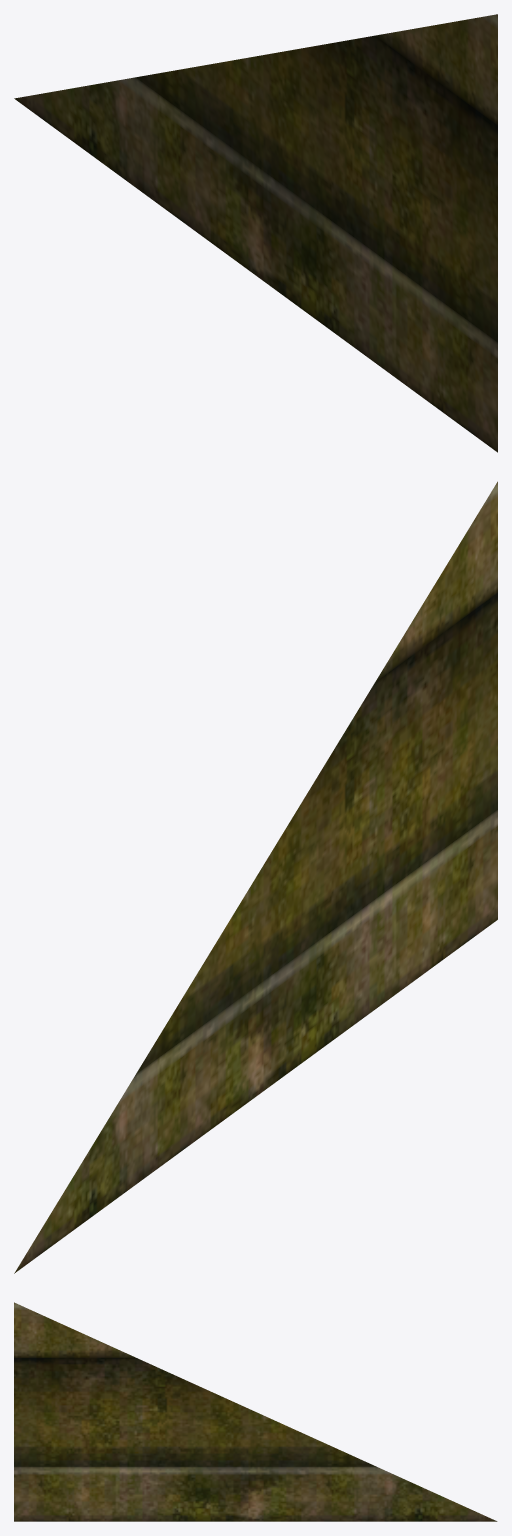
Rendered from OVERHILL_A_01_LINE226.fbx.
3 renders of one model, top to bottom at view 1: azimuth 30°, elevation 25°; view 2: azimuth 150°, elevation 25°; view 3: azimuth 270°, elevation 25°, orthographic. The views are drawn at different scales.
Parts seen in each view (by area): view 1: OVERHILL_A_01_LINE226; view 2: OVERHILL_A_01_LINE226; view 3: OVERHILL_A_01_LINE226.
Boxes of the visible parts, <box> form: OVERHILL_A_01_LINE226: <box>14,14,497,452</box>; OVERHILL_A_01_LINE226: <box>14,481,497,1273</box>; OVERHILL_A_01_LINE226: <box>14,1302,497,1521</box>.
Bounding box in the file's own units: 0 × 5000 × 10000.
Materials: 1 (1 with a texture image).
